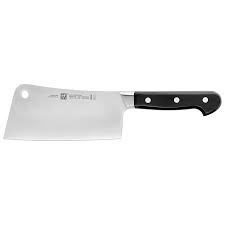knife: (2, 83, 225, 143)
